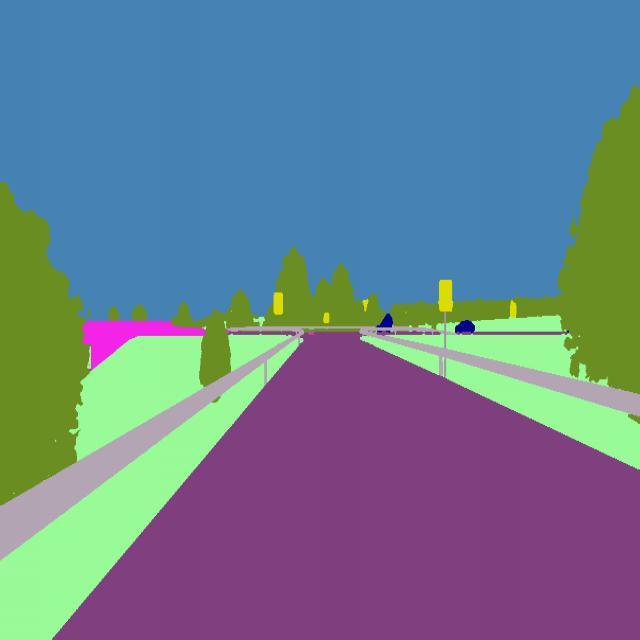safe: (451, 312, 477, 340), (376, 310, 396, 335)
